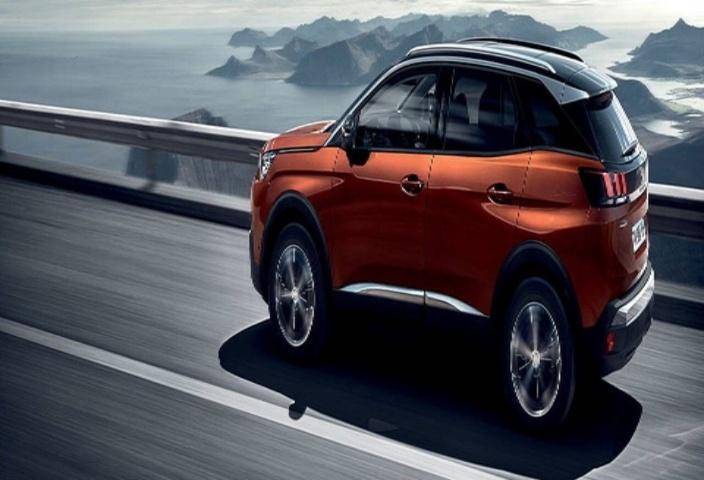camper: (219, 21, 663, 420)
